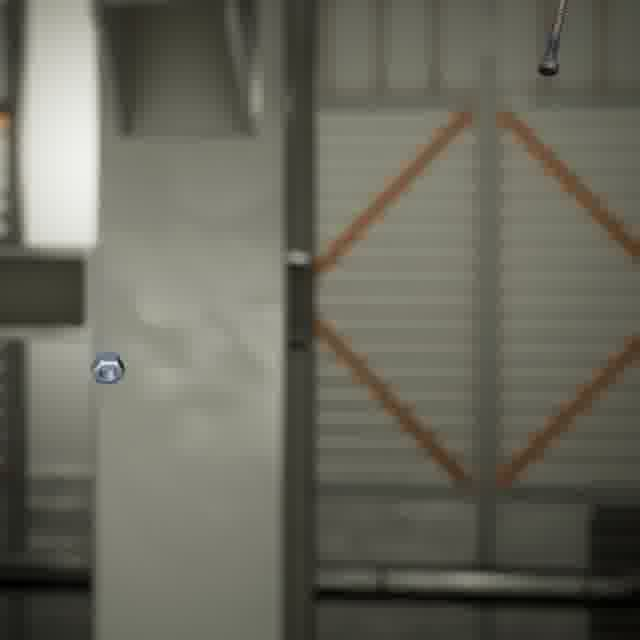bolt: (532, 0, 572, 81)
nut: (86, 348, 129, 388)
